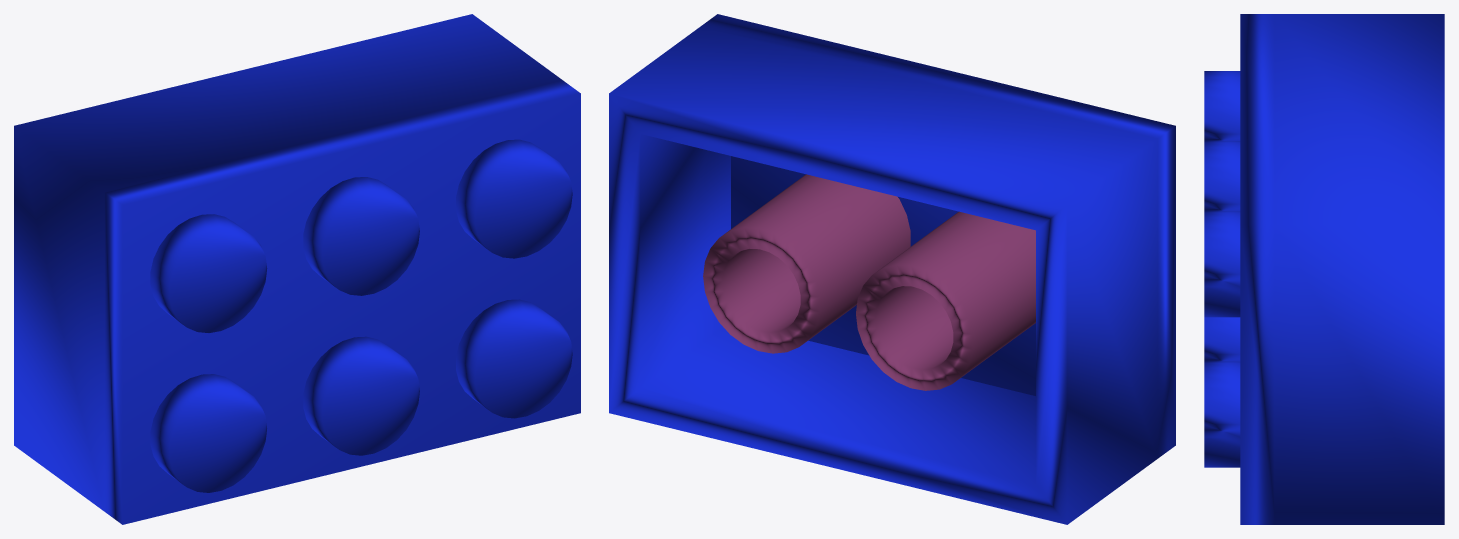
File: legobrick.fbx
3 renders of one model, left to right at view 1: azimuth 30°, elevation 25°; view 2: azimuth 150°, elevation 25°; view 3: azimuth 270°, elevation 25°, orthographic. The views are drawn at different scales.
Visible parts, largest first — view 1: child_1; view 2: child_1, child_2; view 3: child_1.
Boxes of the visible parts, box(x1,y1,x2,y2) form: child_1: box(14, 14, 580, 524); child_1: box(609, 14, 1175, 524); child_2: box(703, 174, 1035, 390); child_1: box(1204, 14, 1444, 524).
Size of the model in its own units: 154 by 103 by 74.32.
